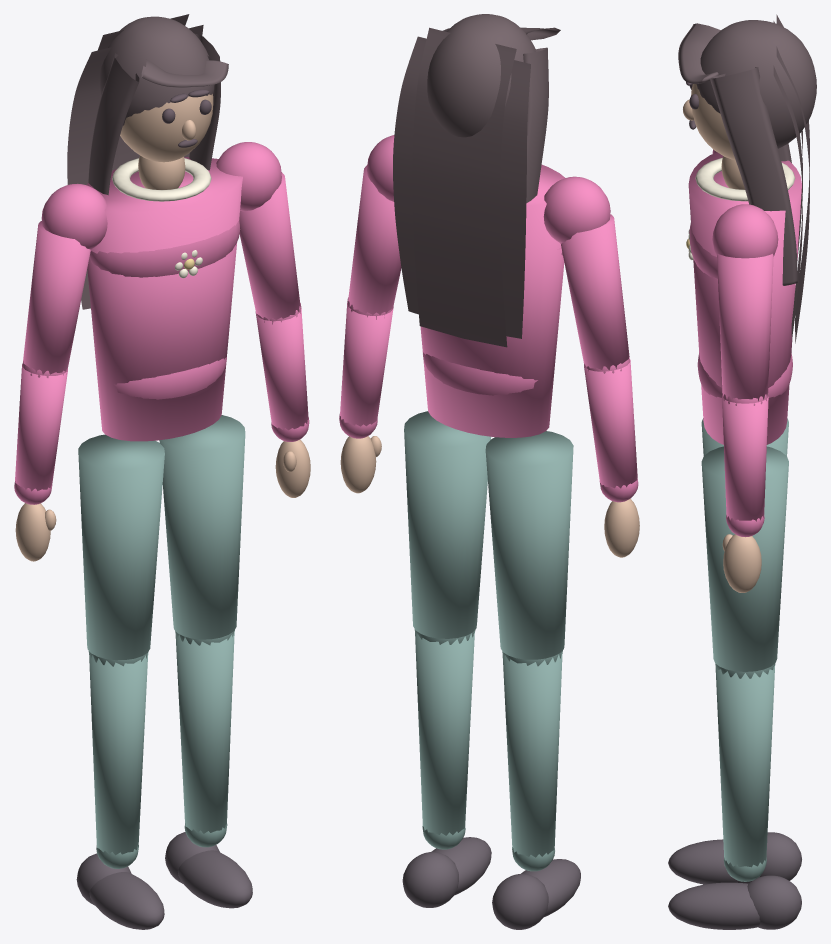
The model's file is shopper_long.glb.
3 views of the same model, side by side, from view 1: azimuth 30°, elevation 25°; view 2: azimuth 150°, elevation 25°; view 3: azimuth 270°, elevation 25° (orthographic).
Visible parts, largest first — view 1: Torso, LegR, LegL, Hair, ArmR, ArmL, Head; view 2: Hair, LegR, LegL, Torso, ArmR, ArmL; view 3: LegL, Hair, Torso, ArmL, LegR, Head.
Part boxes in pixels (x1,y1,x2,y2): Torso: (41,142,281,441); LegR: (76,434,164,929); LegL: (159,415,252,908); Hair: (67,14,228,309); ArmR: (14,221,90,561); ArmL: (239,172,310,497); Head: (120,89,213,189); Hair: (393,14,560,347); LegR: (485,431,580,929); LegL: (402,411,491,907); Torso: (367,135,610,437); ArmR: (560,214,639,557); ArmL: (339,165,401,493); LegL: (668,446,801,929); Hair: (678,14,816,343); Torso: (686,149,801,444); ArmL: (717,253,773,592); LegR: (668,418,801,884); Head: (683,81,744,189).
Size of the model in its own units: 0.592 by 1.71 by 0.262.
